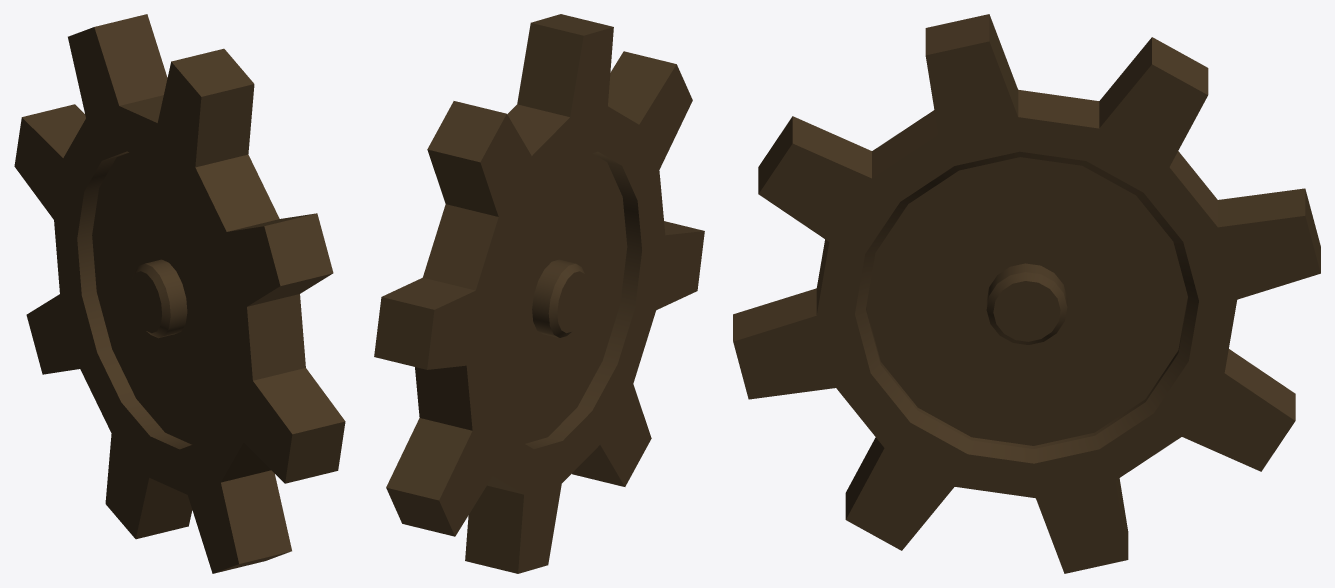
Rendered from Cogwheels_04.fbx.
3 views of the same model, side by side, from view 1: azimuth 30°, elevation 25°; view 2: azimuth 150°, elevation 25°; view 3: azimuth 270°, elevation 25° (orthographic). The views are drawn at different scales.
Visible parts, largest first — view 1: Cylinder.008; view 2: Cylinder.008; view 3: Cylinder.008.
Boxes of the visible parts, bbox=[...] form: Cylinder.008: bbox=[14, 14, 345, 573]; Cylinder.008: bbox=[374, 14, 704, 573]; Cylinder.008: bbox=[733, 14, 1320, 573].
Size of the model in its own units: 0.0853 by 0.6091 by 0.6091.
